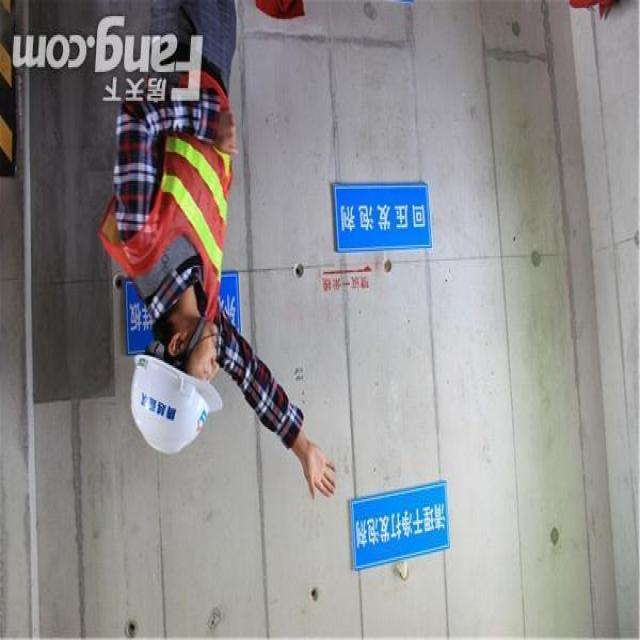helmet: (116, 352, 228, 468)
jacket: (90, 65, 238, 328)
